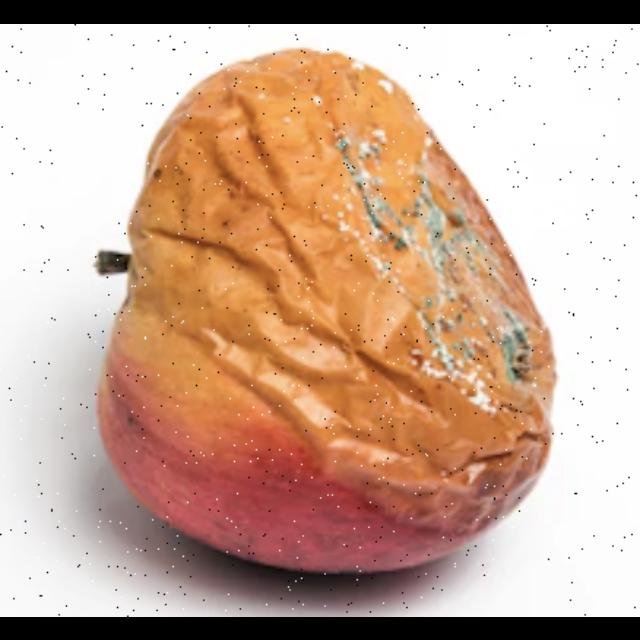Apel Tidak Segar: (96, 54, 560, 578)
